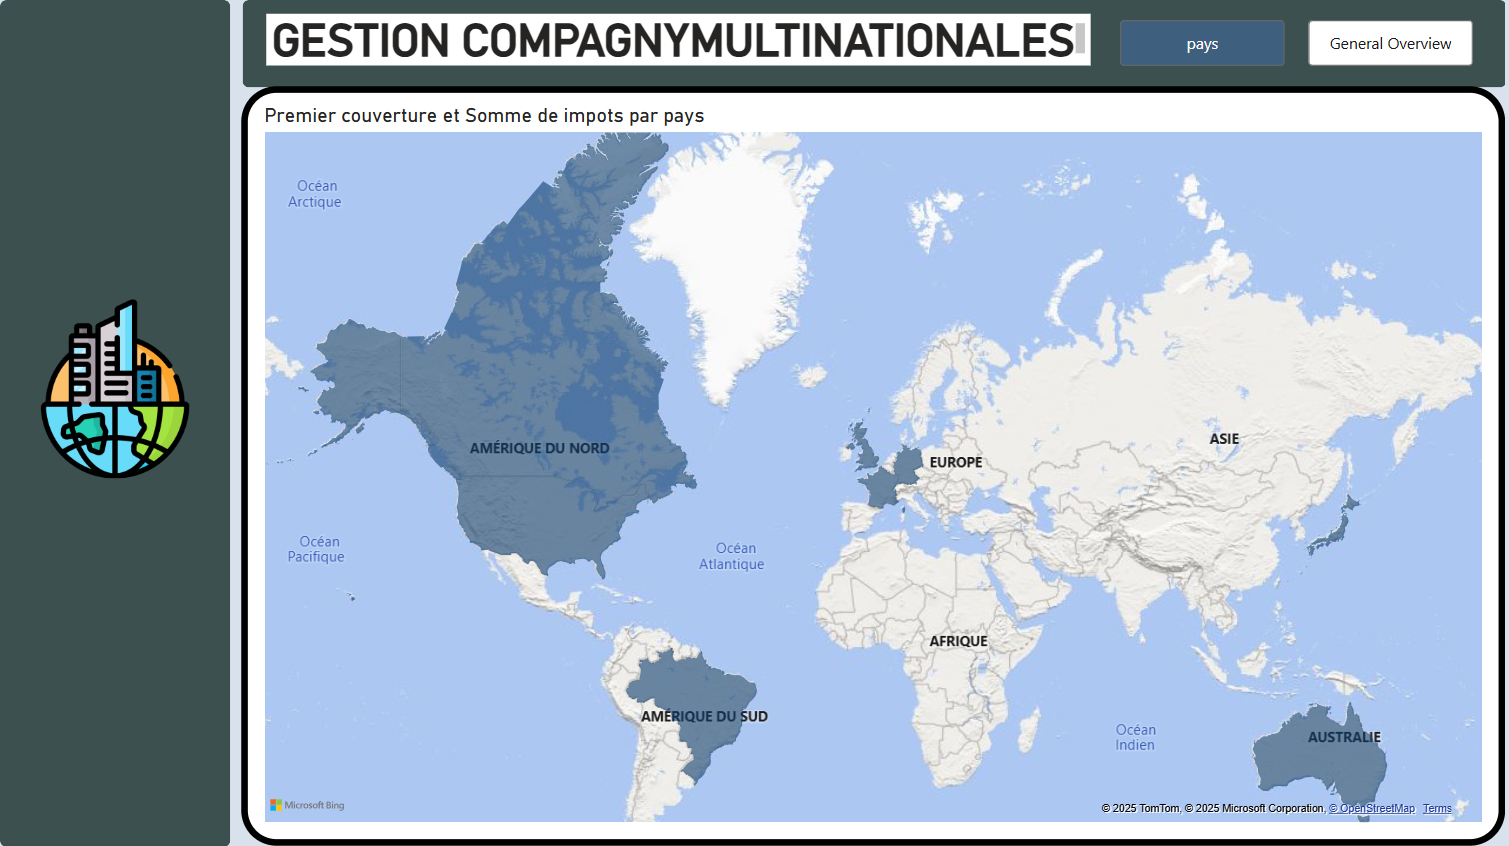

What the dashboard file says about the page in this screenshot:
{"tool":"powerbi","page":{"name":"pays","canvas":[1280,720],"ordinal":0},"visuals":[{"type":"shape","box":[205.7,0,1074.3,74.3],"z":0},{"type":"shape","box":[0,0,195.7,720],"z":1000},{"type":"textbox","box":[226.7,11.3,701.1,43.7],"z":2000},{"type":"pageNavigator","box":[952.3,16.6,301.6,39.2],"z":3000},{"type":"image","box":[16.6,249.3,161.5,161.5],"z":4000},{"type":"filledMap","fields":{"Category":["gestionentreprise etat.pays"]},"box":[205.4,73.6,1074.6,645.9],"z":5000}]}

Visuals, with their boxes in screenshot pixels (x1, y1, x2, y2):
shape: <bbox>250, 0, 1493, 86</bbox>
shape: <bbox>12, 0, 238, 833</bbox>
textbox: <bbox>274, 13, 1085, 64</bbox>
pageNavigator: <bbox>1114, 19, 1463, 65</bbox>
image: <bbox>31, 288, 218, 475</bbox>
filledMap - gestionentreprise etat.pays: <bbox>249, 85, 1493, 833</bbox>
